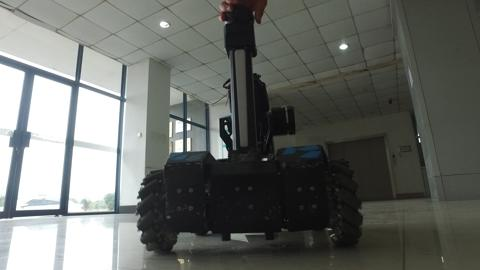chariot: (129, 14, 375, 257)
